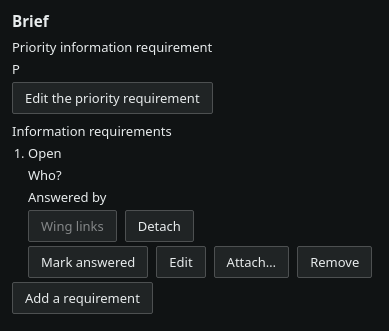
CaseBrief › lets the Author detach an attachment
Click the button with aria-label "Detach pattern: Wing links".
click(159, 226)  # box 125,210 -> 194,242
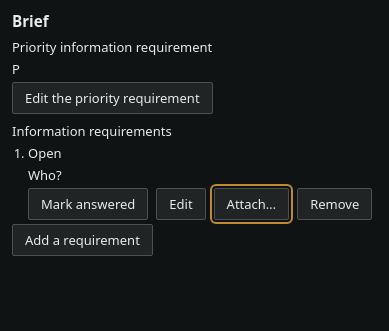
Check: the button "Wing links" is gone
